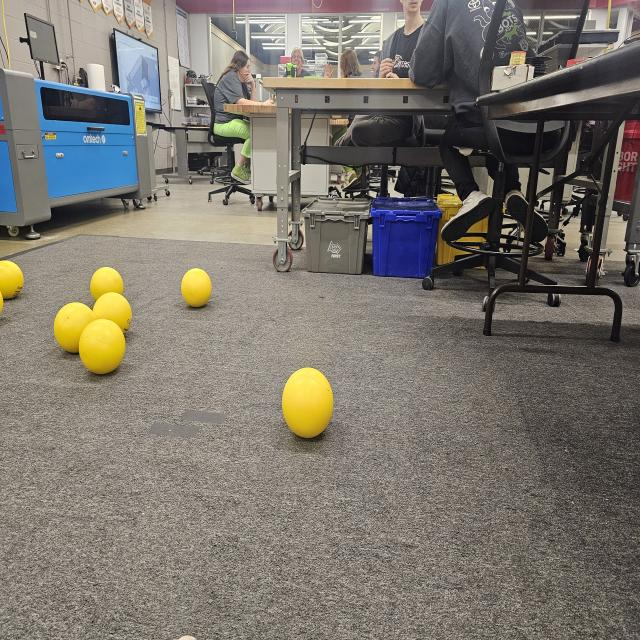Fuel: (282, 365, 332, 440), (80, 320, 125, 373), (54, 302, 96, 353), (93, 292, 132, 340), (90, 266, 123, 304), (182, 269, 210, 308), (0, 260, 24, 299)
